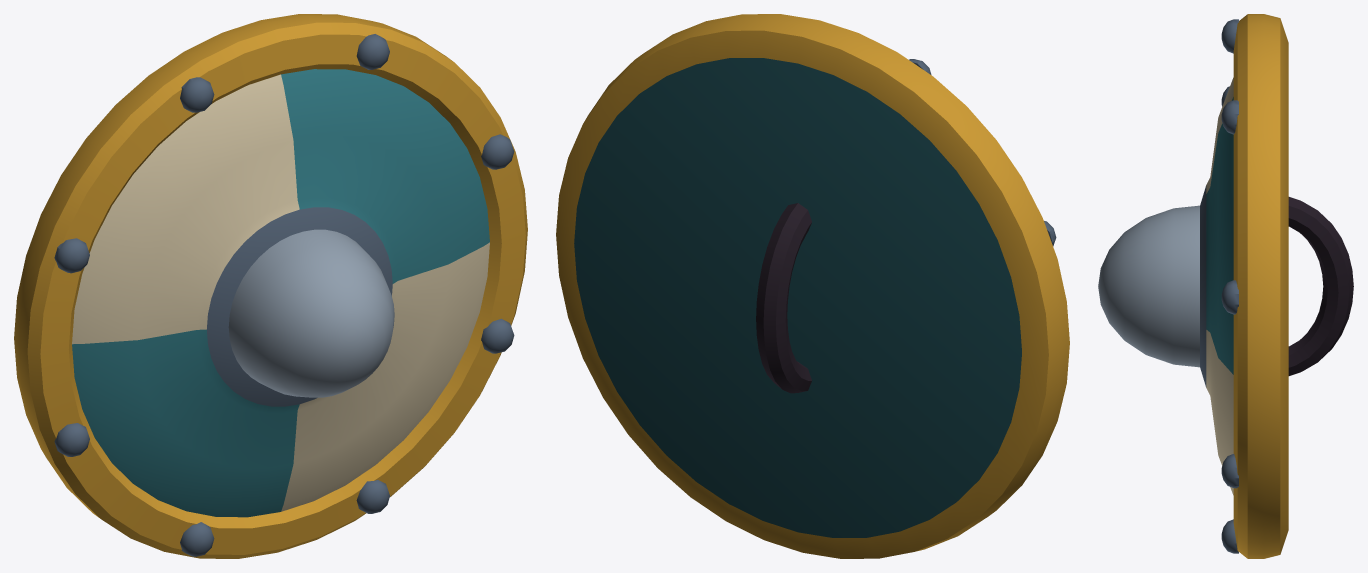
File: RoundShield_11.glb
3 views of the same model, side by side, from view 1: azimuth 30°, elevation 25°; view 2: azimuth 150°, elevation 25°; view 3: azimuth 270°, elevation 25° (orthographic). The views are drawn at different scales.
Parts seen in each view (by area): view 1: RoundShield_11; view 2: RoundShield_11; view 3: RoundShield_11.
Boxes of the visible parts, x1,y1,x2,y2 form: RoundShield_11: (14, 14, 527, 558); RoundShield_11: (556, 14, 1069, 558); RoundShield_11: (1098, 14, 1353, 558).
Size of the model in its own units: 2.67 by 2.67 by 1.25.
